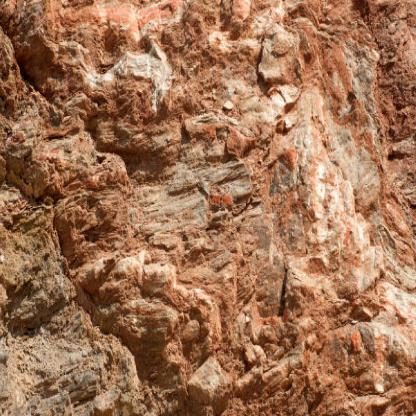Sedimentary_Sandstone: (95, 238, 227, 394), (278, 136, 385, 317), (10, 131, 132, 252), (93, 38, 179, 139), (255, 4, 306, 126)
